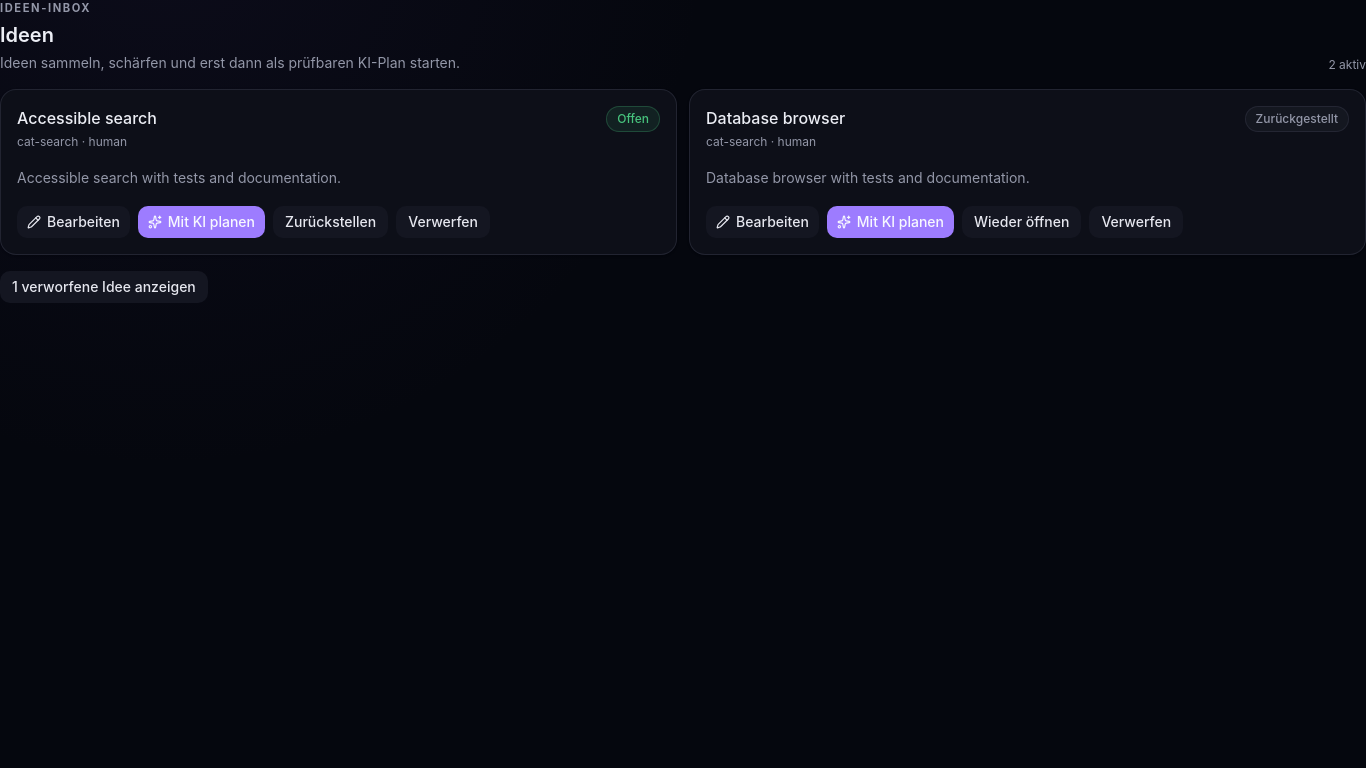
Scenario: IdeaSeedInbox › keeps mutation errors visible in the active dialog
Click the 1st button "Bearbeiten" at point(73, 222), box [17,206,130,238]
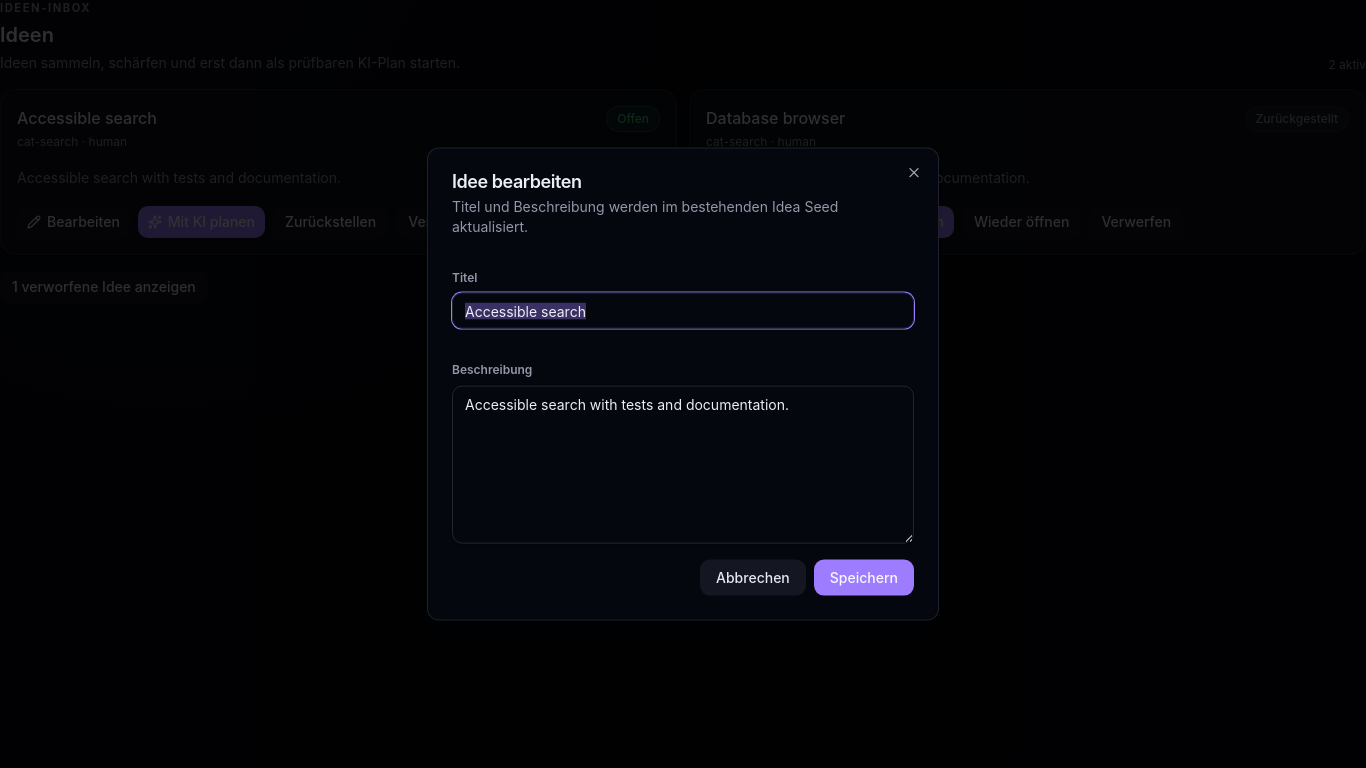
Click the button "Speichern" at point(864, 577), box [814,559,914,595]
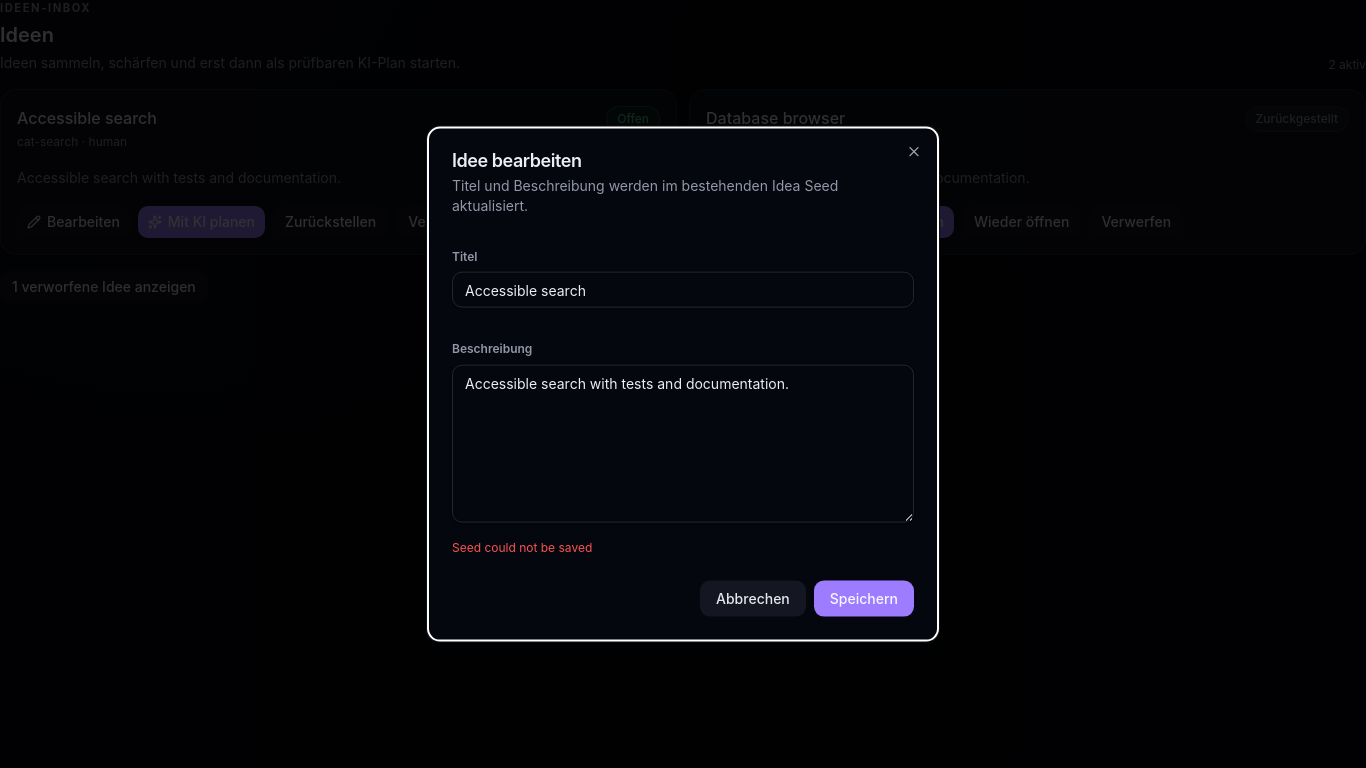
Result: the dialog "Idee bearbeiten" is shown at [427,127,939,641]
Result: the message reads "Seed could not be saved" at [452,539,592,554]
